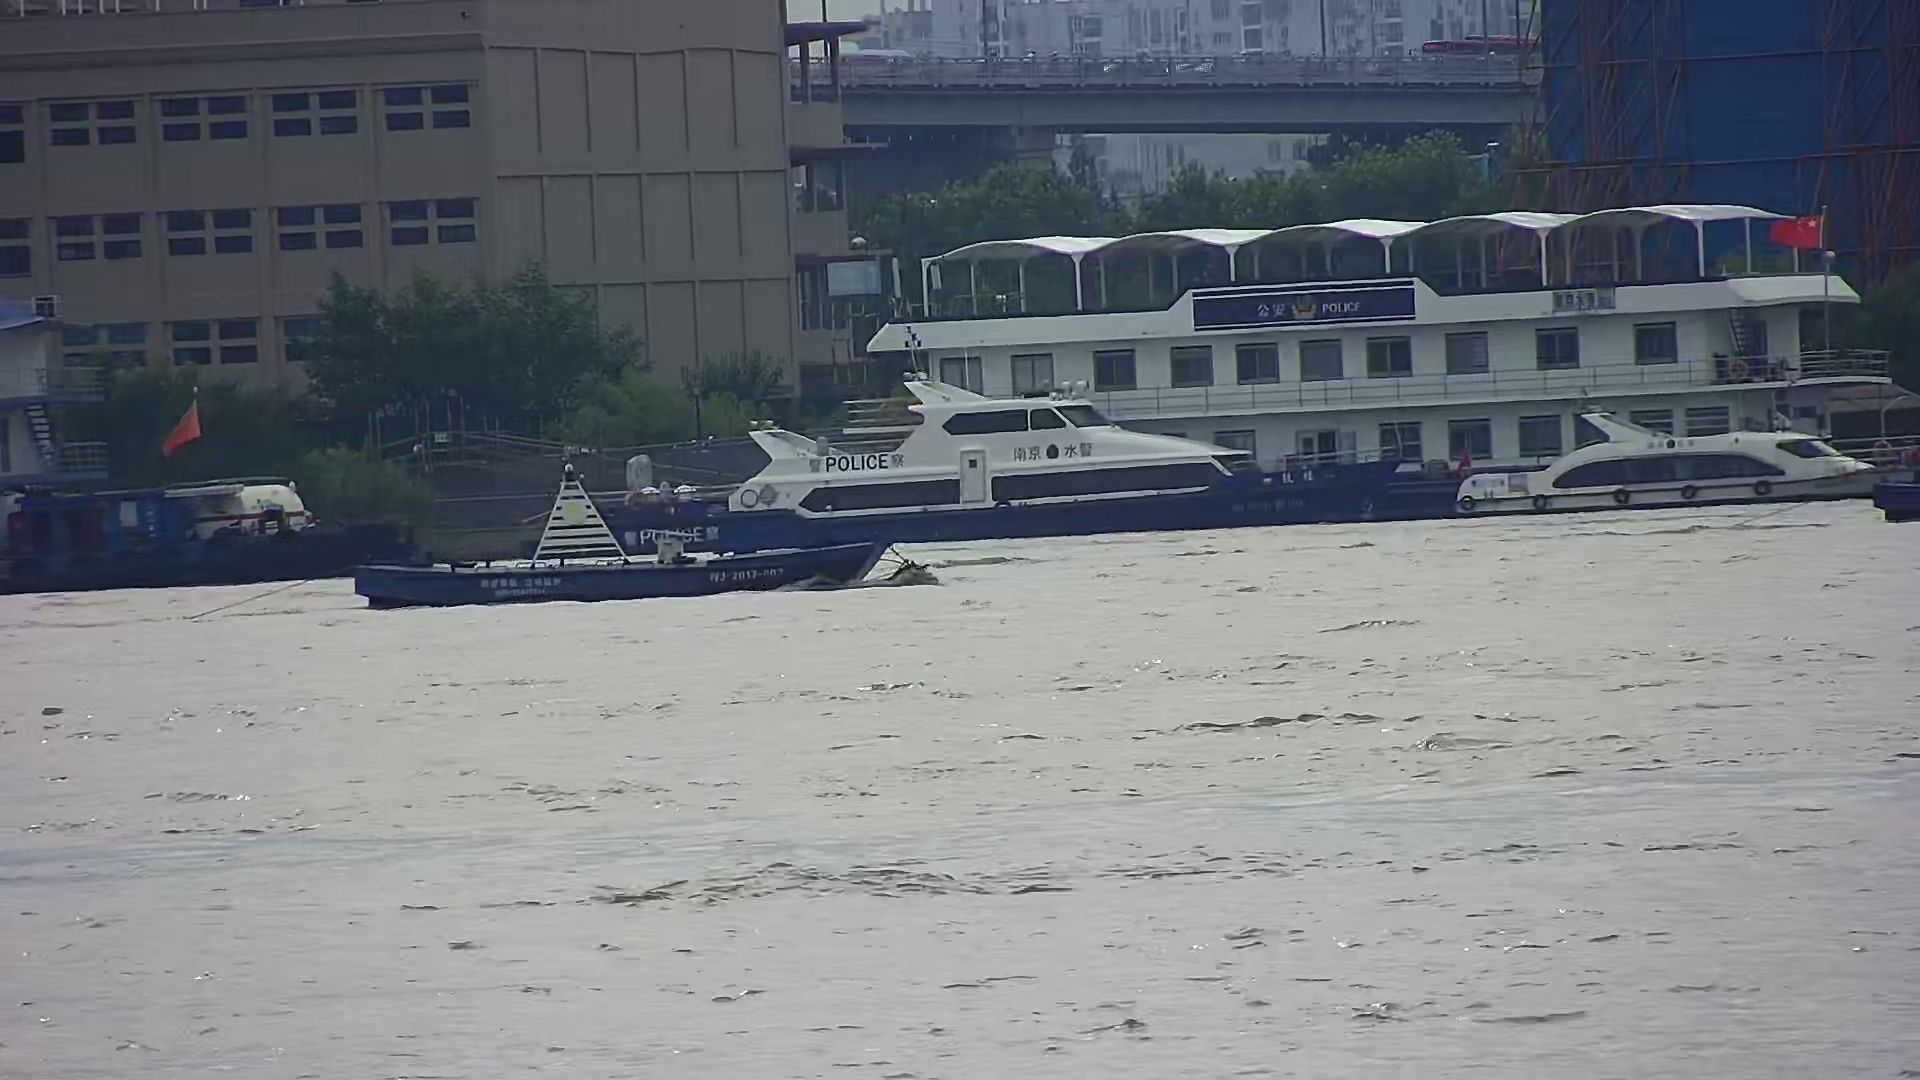boat: (355, 467, 893, 608), (1456, 415, 1909, 513)
ship: (729, 375, 1399, 545), (1, 388, 434, 596)
